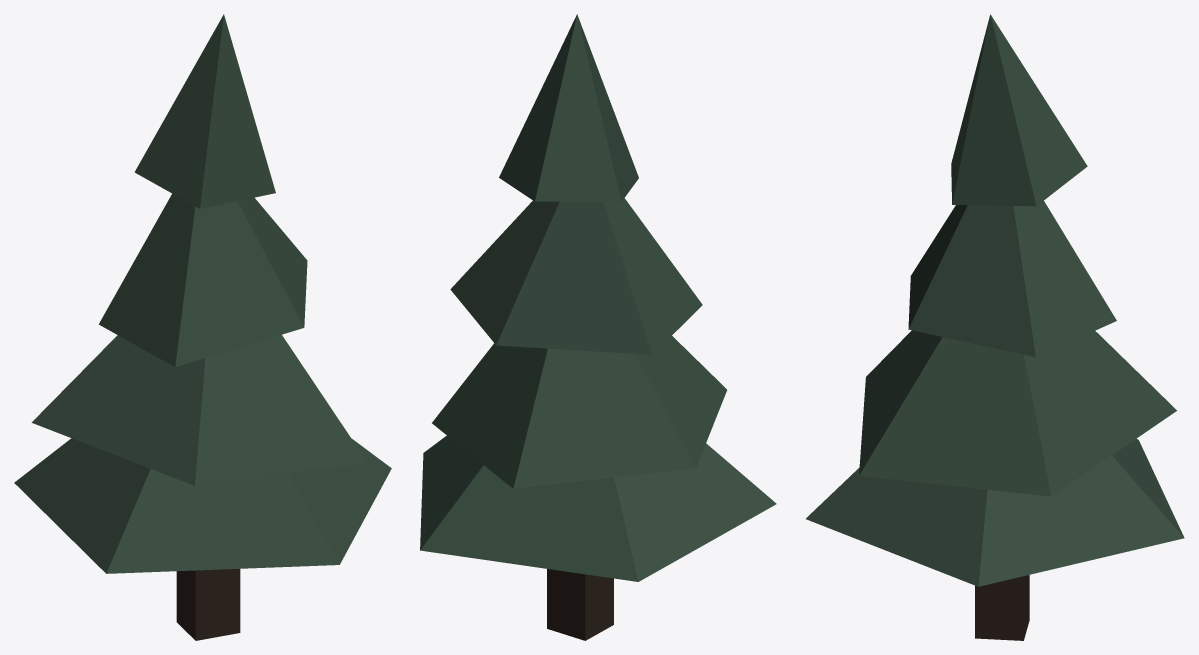
File: Pine02.fbx
The picture shows the model from 3 angles, left to right: view 1: azimuth 30°, elevation 25°; view 2: azimuth 150°, elevation 25°; view 3: azimuth 270°, elevation 25°; orthographic projection. The views are drawn at different scales.
Visible parts, largest first — view 1: Pine2; view 2: Pine2; view 3: Pine2.
Boxes of the visible parts, x1=… form: Pine2: x1=14, y1=14, x2=391, y2=640; Pine2: x1=420, y1=14, x2=776, y2=640; Pine2: x1=806, y1=14, x2=1184, y2=640.
Bounding box in the file's own units: 0.2772 × 0.506 × 0.2805.
